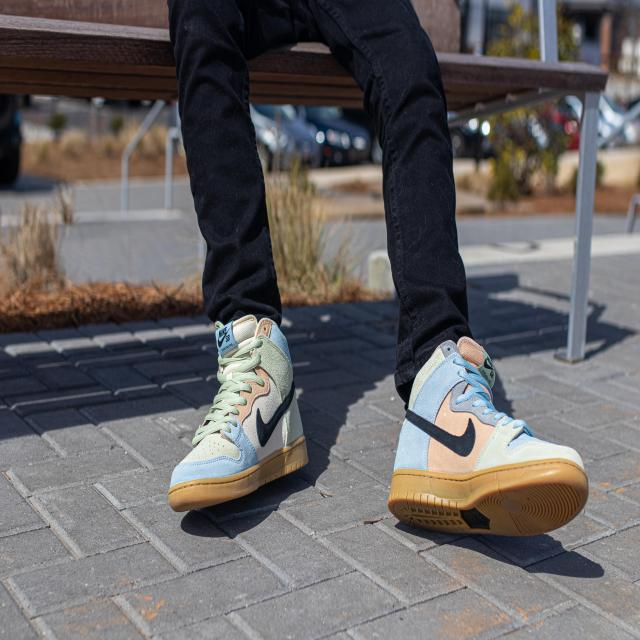shoe: (148, 294, 312, 592), (381, 341, 599, 536)
